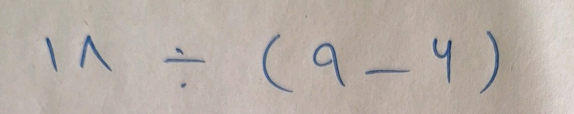character: (261, 30, 296, 96), (160, 44, 208, 90), (310, 40, 348, 90), (480, 25, 503, 98), (78, 31, 114, 75), (430, 35, 457, 86), (43, 34, 62, 76), (363, 64, 416, 79)
